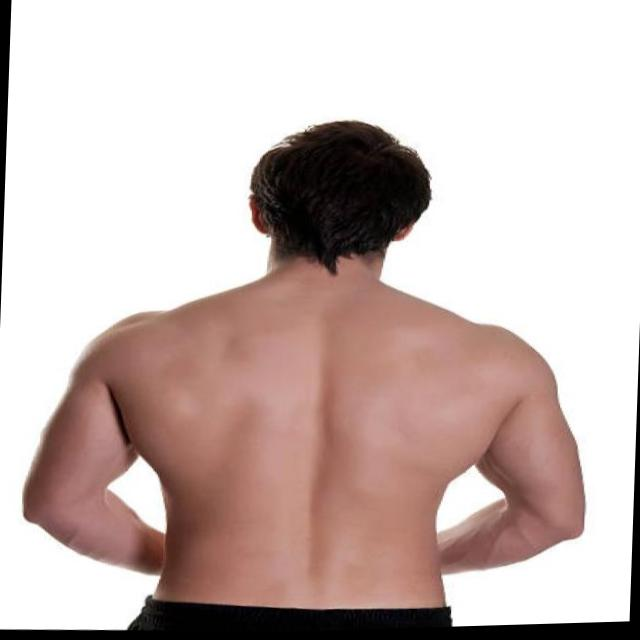no helmet: (233, 116, 442, 279)
